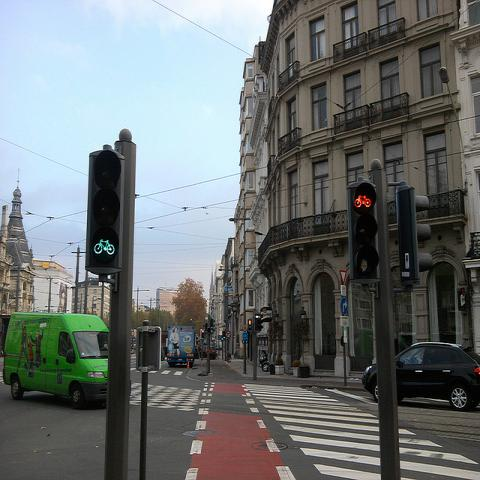car: (363, 337, 479, 410), (202, 345, 218, 359), (161, 346, 165, 362)
truck: (3, 314, 109, 408), (167, 326, 195, 368)
